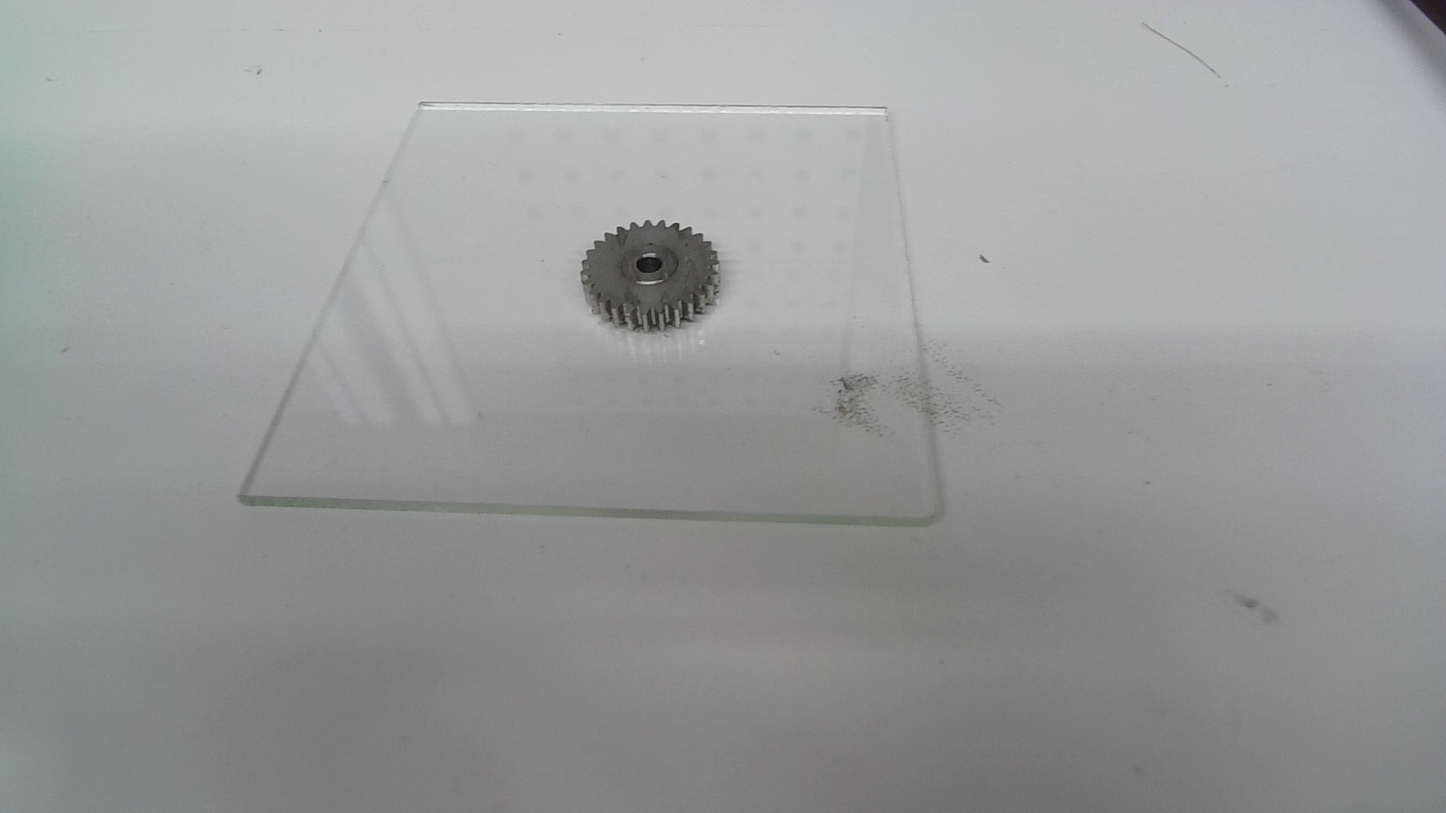gear: (577, 216, 725, 334)
